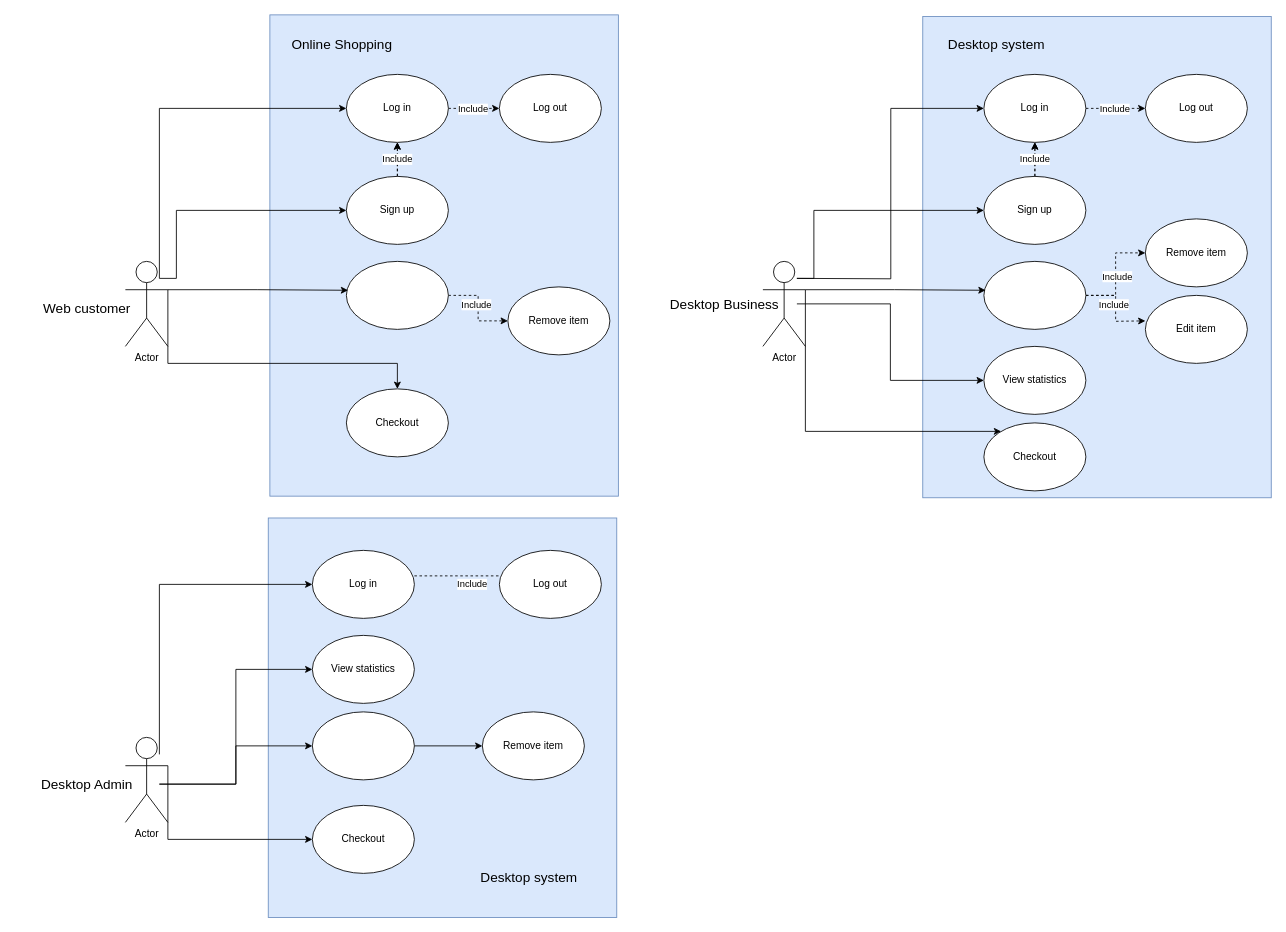
The diagram is 1286 pixels wide and 932 high, and some of its shapes have lost their labels. The centre of each missing label's shape, as x and y in pixels:
Add item: (x=1034, y=295)
Add to shopping cart: (x=397, y=295)
View items: (x=363, y=745)
